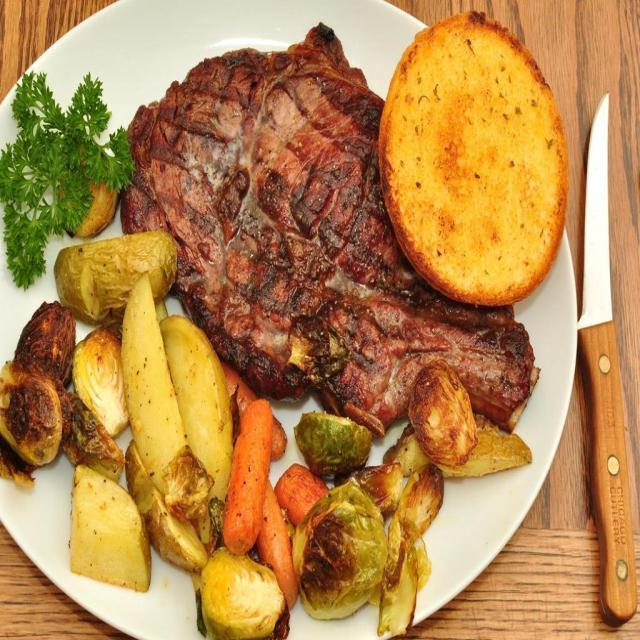Potato: (159, 312, 233, 542), (121, 274, 185, 487), (69, 462, 153, 592)
